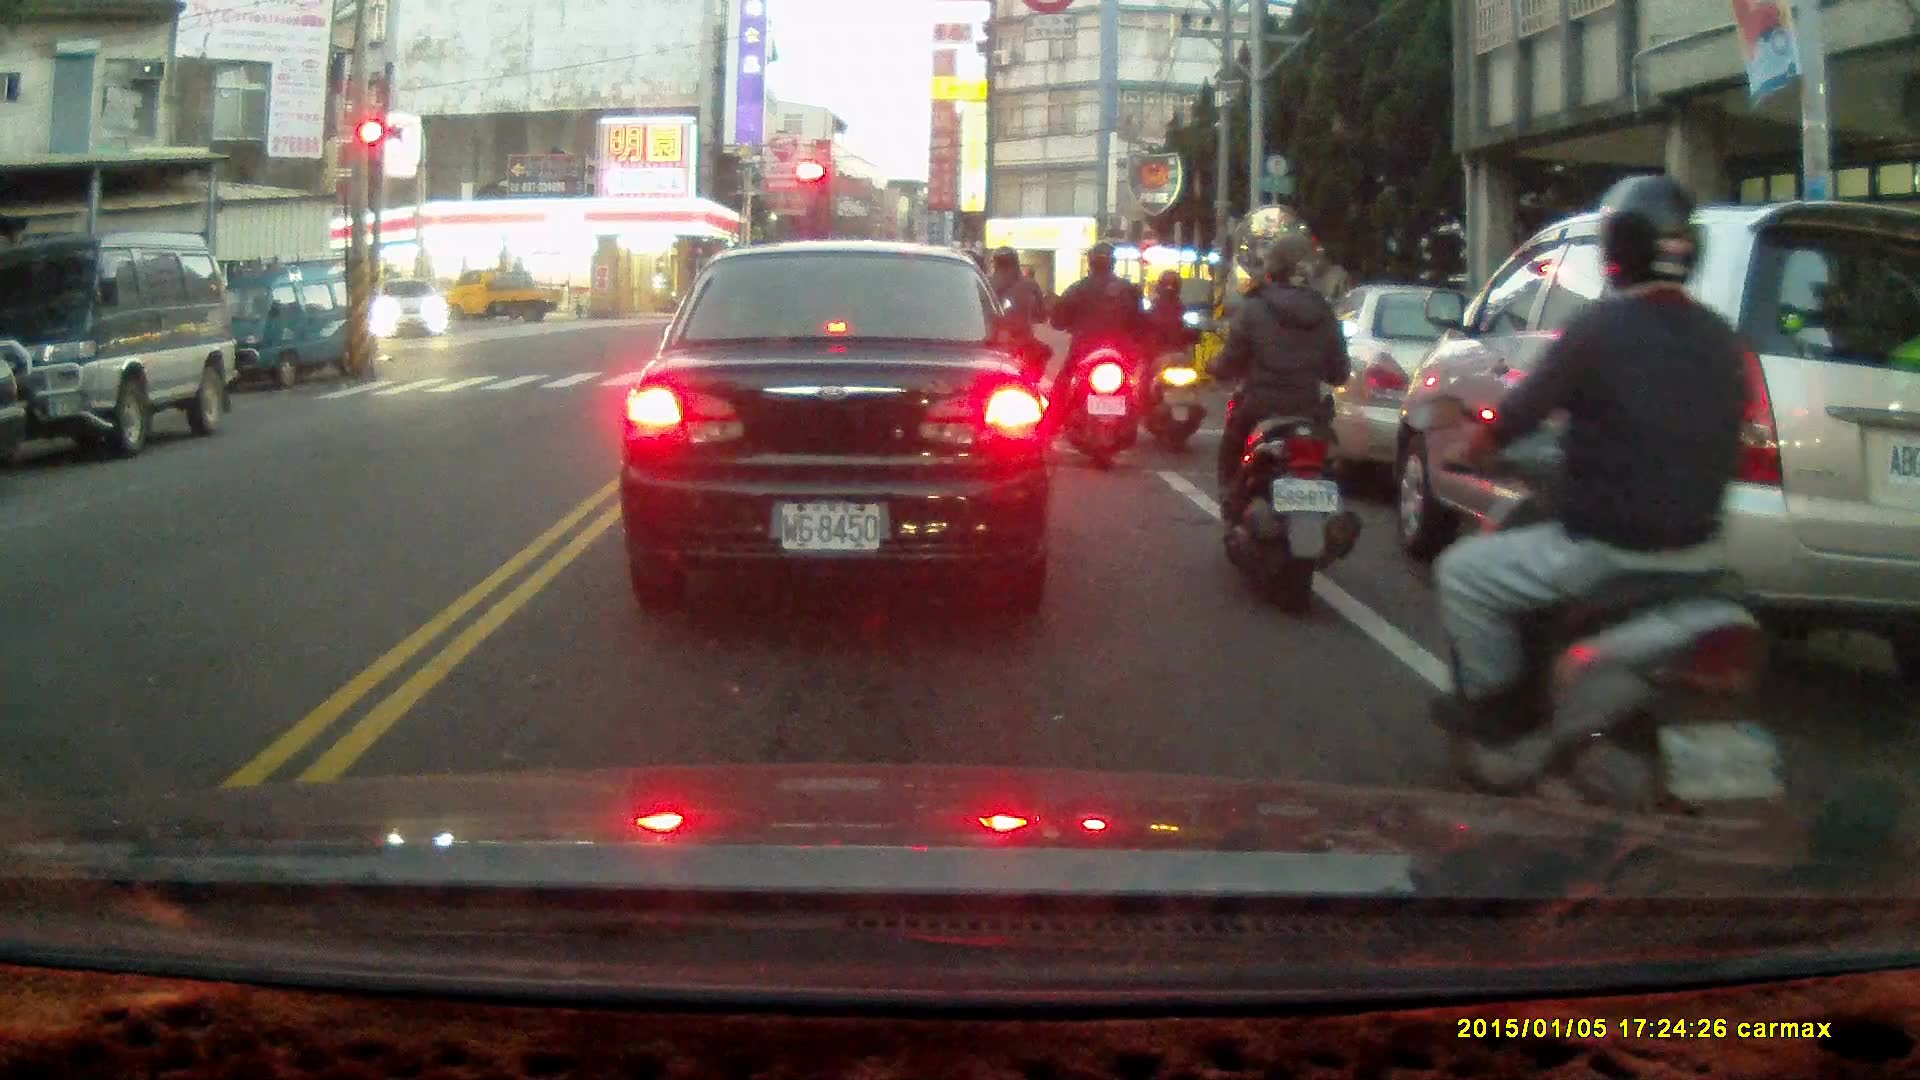rider: (1401, 174, 1789, 902), (1184, 229, 1358, 618), (1048, 243, 1141, 469), (962, 244, 1050, 447), (1134, 269, 1204, 450)
vehicle: (1381, 195, 1920, 685), (617, 243, 1061, 606), (1264, 282, 1593, 492), (1, 234, 239, 458), (194, 255, 381, 395), (436, 265, 564, 327), (372, 277, 451, 343)
